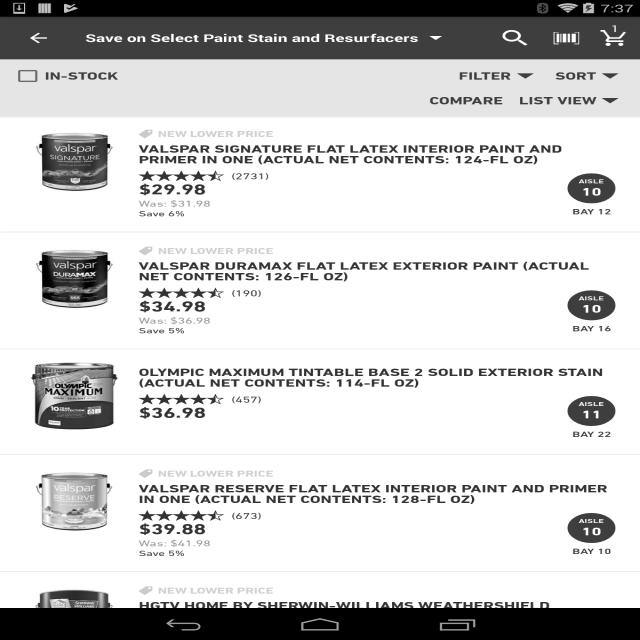CheckBox: (11, 66, 119, 86)
ImageButton: (9, 17, 68, 59)
ImageView: (21, 468, 128, 535), (21, 129, 128, 195), (21, 246, 128, 312), (21, 363, 128, 429), (21, 585, 128, 640), (601, 22, 626, 54), (517, 66, 534, 86), (602, 66, 618, 86), (602, 92, 618, 109), (138, 469, 152, 478), (138, 586, 152, 595), (138, 130, 152, 138), (138, 247, 152, 255), (429, 34, 442, 42)
RatingBar: (139, 394, 224, 405), (139, 510, 224, 521), (139, 171, 224, 181), (139, 288, 224, 298)
TextView: (138, 600, 618, 634), (86, 17, 430, 59), (138, 482, 618, 506), (138, 143, 618, 166), (138, 260, 618, 283), (138, 366, 618, 389), (541, 22, 592, 54), (490, 22, 540, 54), (518, 92, 596, 109), (158, 468, 274, 479), (158, 585, 274, 596), (429, 92, 502, 109), (158, 129, 274, 139), (158, 246, 274, 256), (139, 181, 206, 198), (139, 298, 206, 315), (458, 66, 512, 86), (139, 405, 206, 421), (139, 521, 206, 537), (555, 66, 596, 86), (139, 198, 211, 208), (139, 316, 211, 326), (139, 538, 211, 548), (595, 22, 635, 35), (568, 429, 616, 439), (568, 546, 616, 556), (139, 548, 185, 558), (568, 207, 616, 216), (568, 324, 616, 333), (139, 209, 185, 218), (139, 326, 185, 335), (231, 171, 269, 181), (232, 394, 262, 405), (232, 510, 262, 521), (232, 288, 262, 298), (581, 185, 602, 199), (581, 302, 602, 316), (581, 408, 602, 421), (581, 525, 602, 538), (578, 400, 604, 408), (578, 517, 604, 525), (578, 178, 604, 185), (578, 295, 604, 302)
